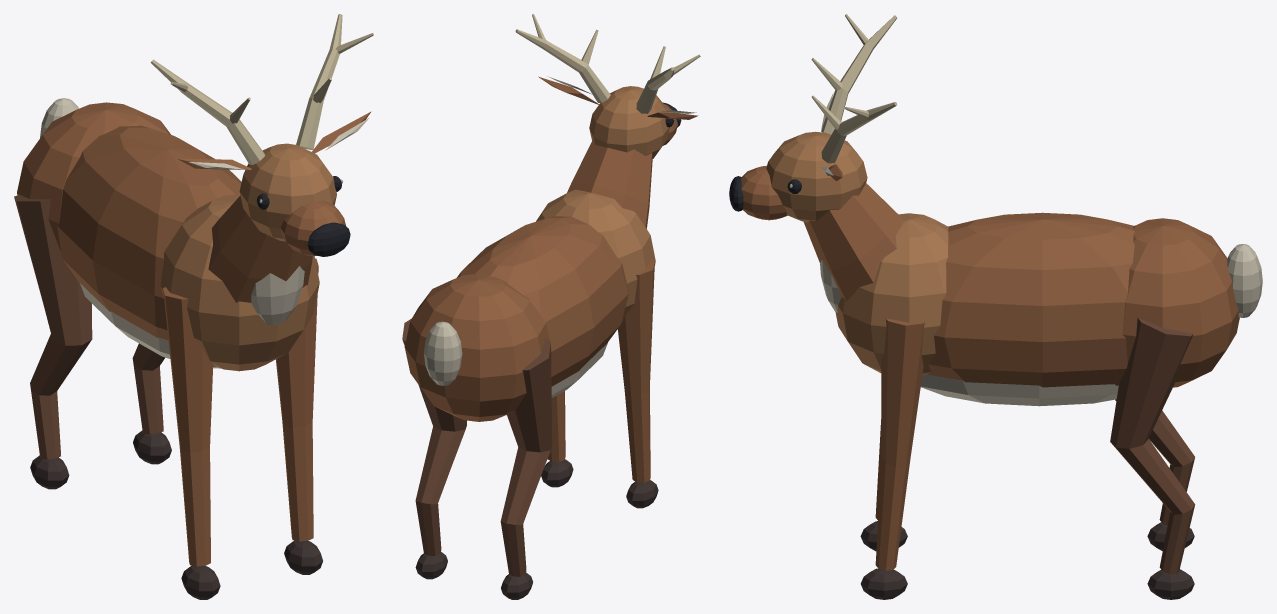
File: deer.glb
3 renders of one model, left to right at view 1: azimuth 30°, elevation 25°; view 2: azimuth 150°, elevation 25°; view 3: azimuth 270°, elevation 25°, orthographic. The views are drawn at different scales.
Visible parts, largest first — view 1: deer_body_mesh, deer_head_mesh; view 2: deer_body_mesh, deer_head_mesh; view 3: deer_body_mesh, deer_head_mesh.
Part boxes in pixels (left/top/right/bottom): deer_body_mesh: left=14, top=98, right=322, bottom=599; deer_head_mesh: left=150, top=14, right=373, bottom=324; deer_body_mesh: left=402, top=189, right=658, bottom=599; deer_head_mesh: left=515, top=14, right=700, bottom=228; deer_body_mesh: left=835, top=212, right=1262, bottom=599; deer_head_mesh: left=729, top=14, right=904, bottom=312.
Size of the model in its own units: 0.6258 by 1.6 by 1.5.
